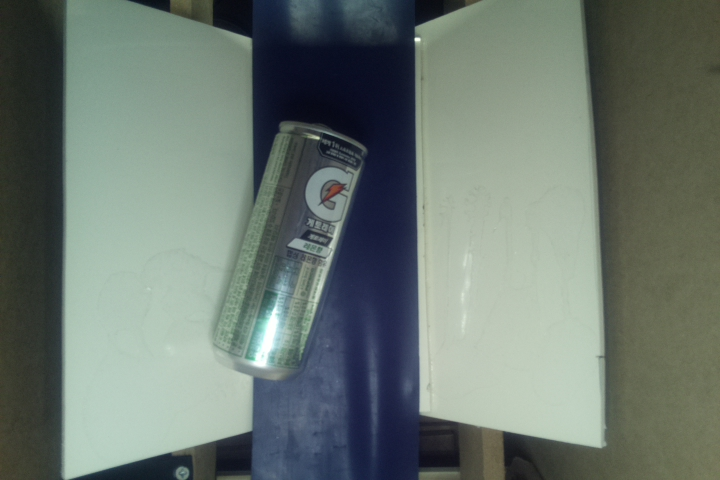can: (209, 124, 372, 381)
